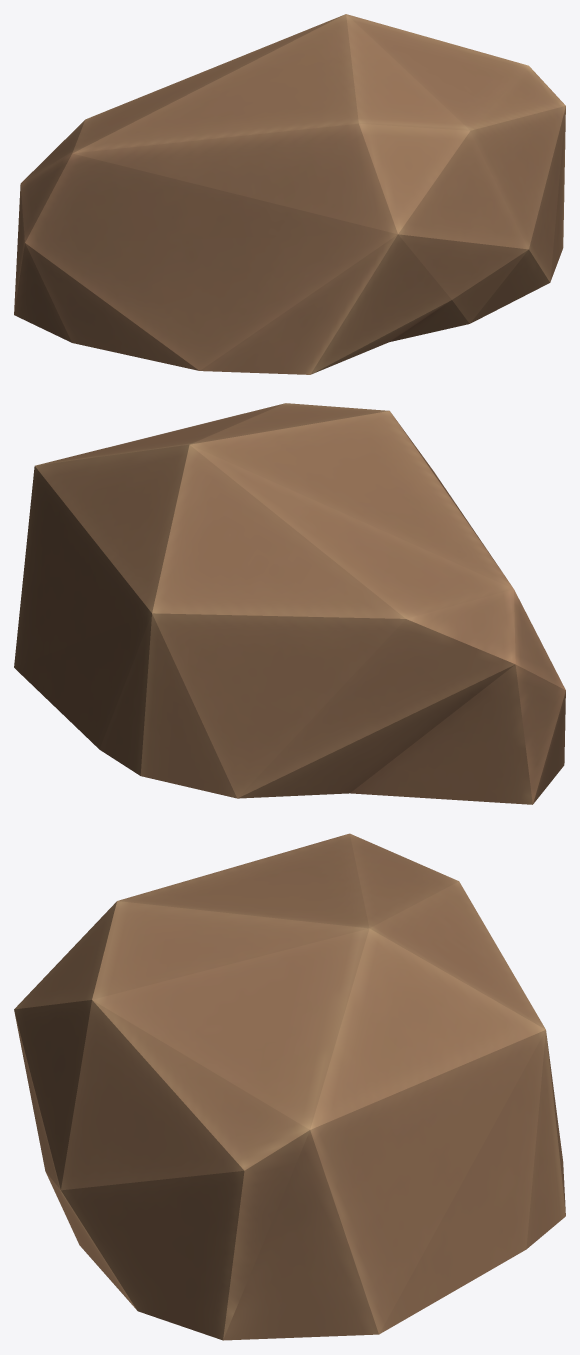
File: Rock_47.fbx
3 views of the same model, one above another, from view 1: azimuth 30°, elevation 25°; view 2: azimuth 150°, elevation 25°; view 3: azimuth 270°, elevation 25° (orthographic). The views are drawn at different scales.
Parts seen in each view (by area): view 1: Rock_47; view 2: Rock_47; view 3: Rock_47.
Boxes of the visible parts, left/top/right/bottom form: Rock_47: left=14, top=14, right=565, bottom=374; Rock_47: left=14, top=403, right=565, bottom=804; Rock_47: left=14, top=833, right=565, bottom=1340.
Size of the model in its own units: 38.04 by 16.92 by 27.5.
